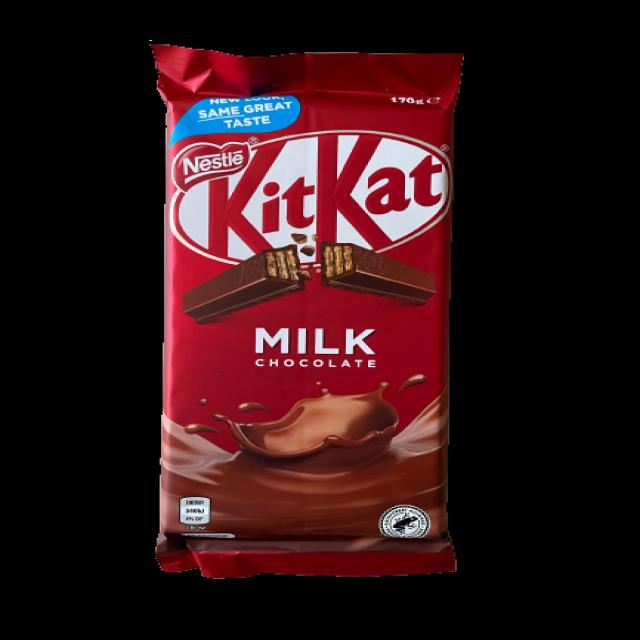kitkat: (154, 39, 460, 572)
